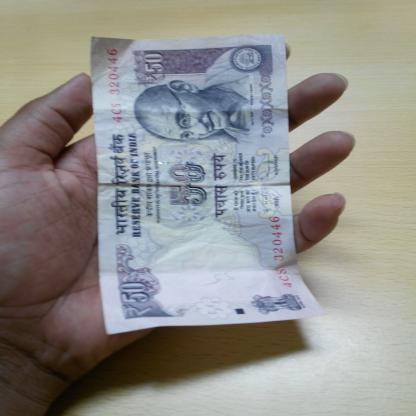Old50Front: (90, 34, 325, 334)
